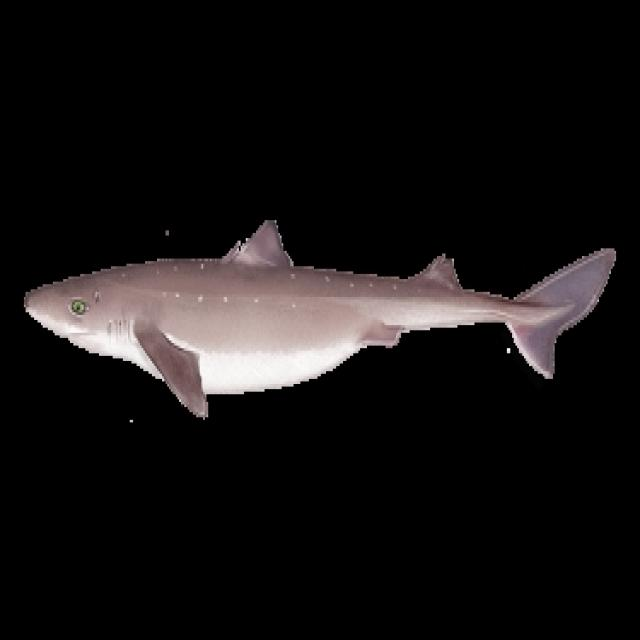gaviota: (24, 220, 614, 415)
